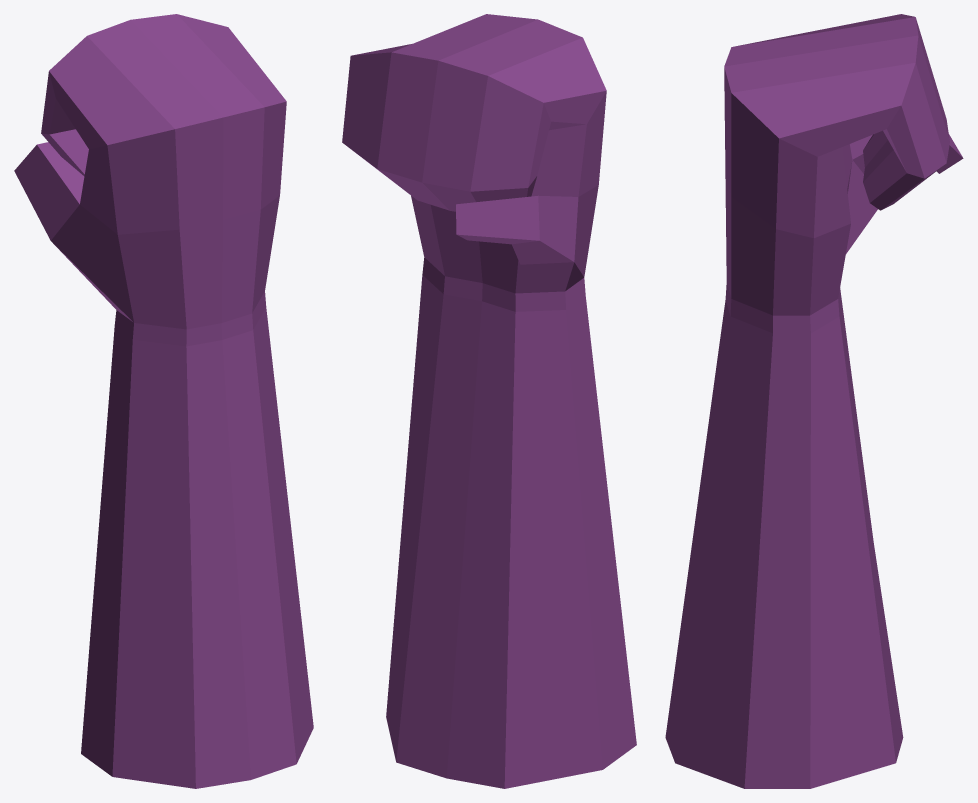
Rendered from hand_1.fbx.
3 views of the same model, side by side, from view 1: azimuth 30°, elevation 25°; view 2: azimuth 150°, elevation 25°; view 3: azimuth 270°, elevation 25° (orthographic). The views are drawn at different scales.
Visible parts, largest first — view 1: Hand; view 2: Hand; view 3: Hand.
Part boxes in pixels (x1=…): Hand: x1=14, y1=14, x2=313, y2=788; Hand: x1=342, y1=14, x2=636, y2=788; Hand: x1=665, y1=14, x2=963, y2=788.
Bounding box in the file's own units: 119 × 371 × 143.
